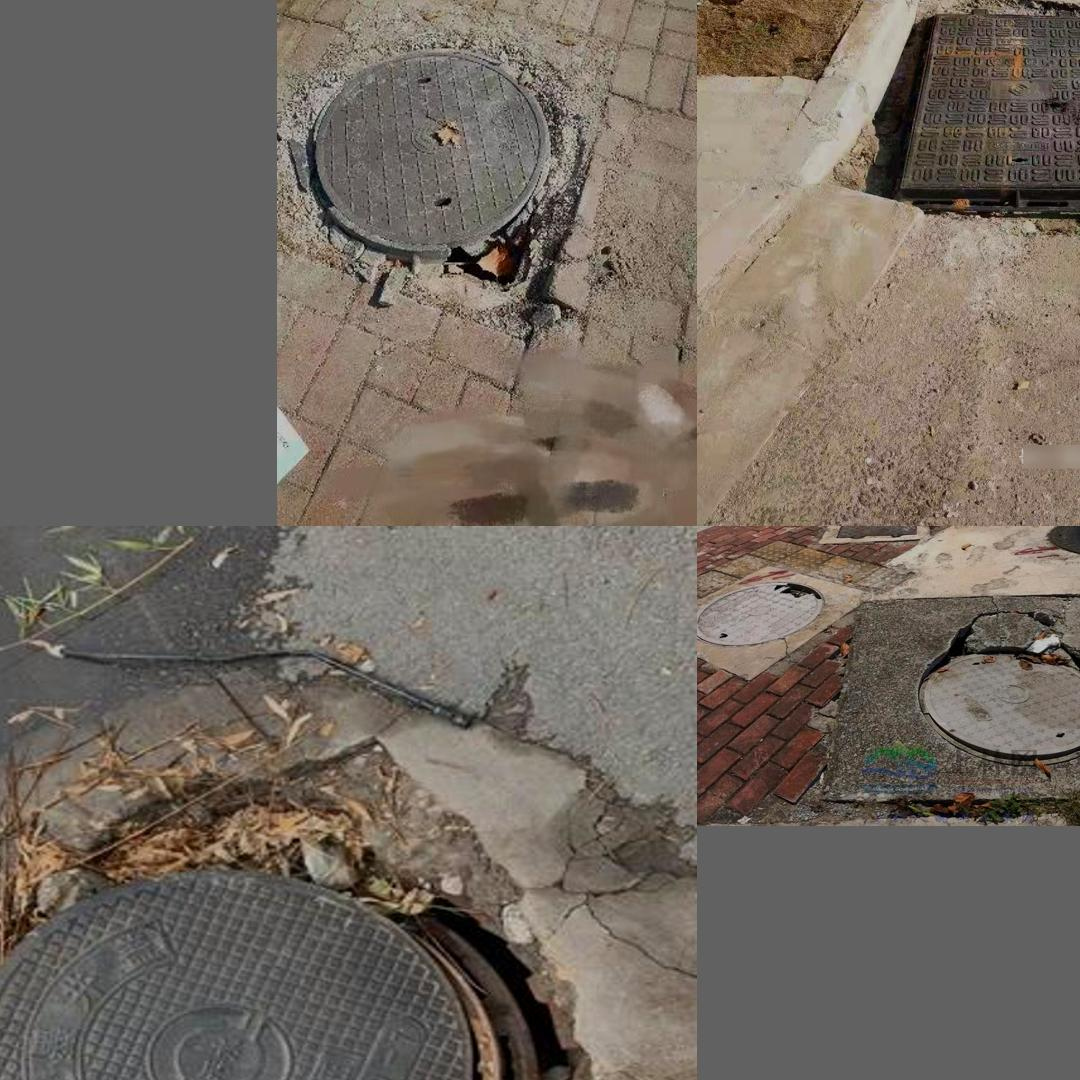circle: (0, 665, 684, 1080), (277, 35, 592, 281), (815, 586, 1080, 802), (860, 2, 1080, 229)
